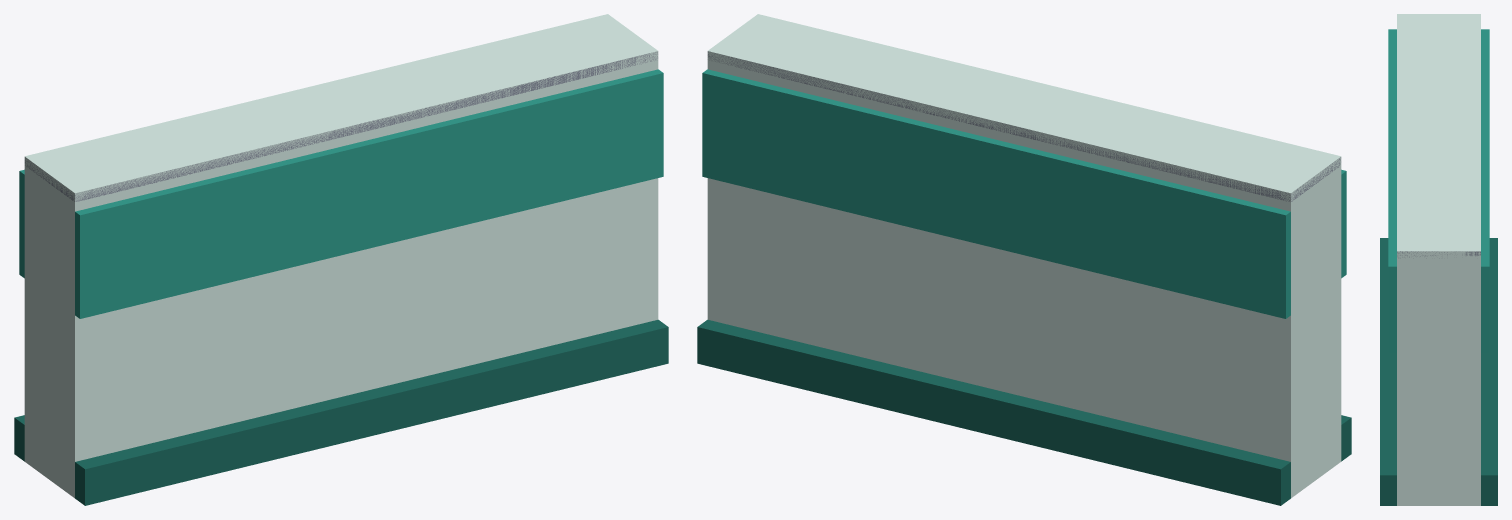
The model's file is partition.glb.
The picture shows the model from 3 angles, left to right: view 1: azimuth 30°, elevation 25°; view 2: azimuth 150°, elevation 25°; view 3: azimuth 270°, elevation 25°; orthographic projection. The views are drawn at different scales.
Visible parts, largest first — view 1: partition; view 2: partition; view 3: partition.
Boxes of the visible parts, left/top/right/bottom form: partition: left=14, top=14, right=668, bottom=505; partition: left=697, top=14, right=1351, bottom=505; partition: left=1380, top=14, right=1497, bottom=505.
Bounding box in the file's own units: 1 × 0.5 × 0.21.
Materials: 1 (1 with a texture image).
